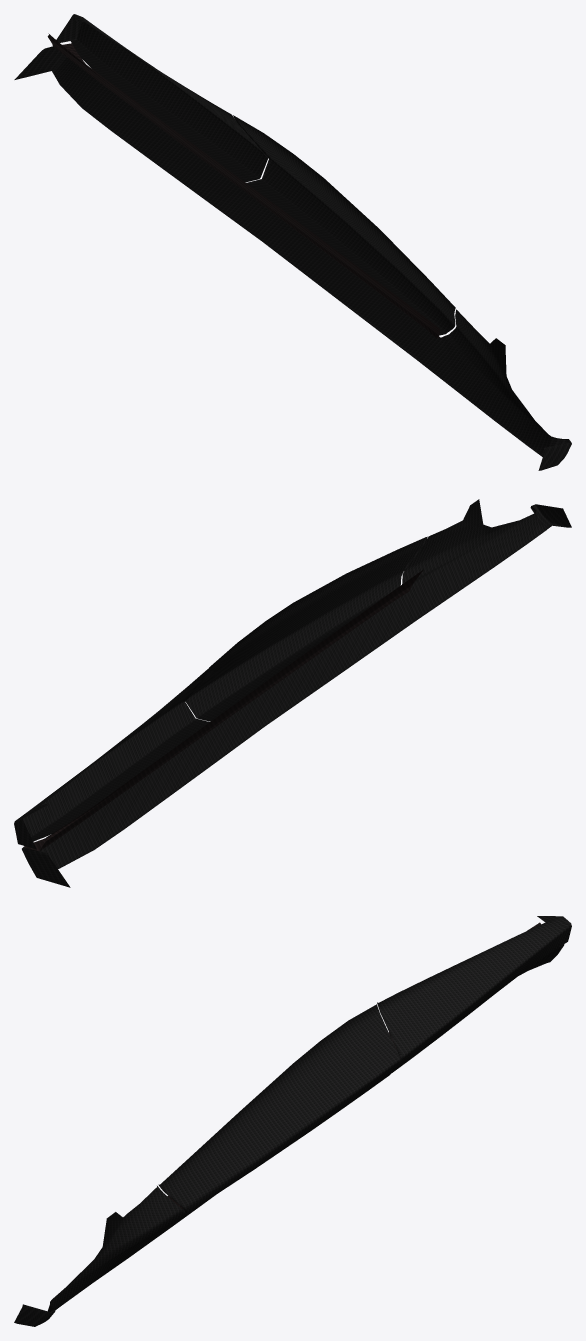
File: sideskirt_l.glb
3 views of the same model, one above another, from view 1: azimuth 30°, elevation 25°; view 2: azimuth 150°, elevation 25°; view 3: azimuth 330°, elevation 25° (orthographic). The views are drawn at different scales.
Visible parts, largest first — view 1: Carbon2_Geo_lodA_Ferrari_PurosangueRewardRecycled_2023Carbon; view 2: Carbon2_Geo_lodA_Ferrari_PurosangueRewardRecycled_2023Carbon; view 3: Carbon2_Geo_lodA_Ferrari_PurosangueRewardRecycled_2023Carbon.
Boxes of the visible parts, <box> form: Carbon2_Geo_lodA_Ferrari_PurosangueRewardRecycled_2023Carbon: <box>14,14,571,470</box>; Carbon2_Geo_lodA_Ferrari_PurosangueRewardRecycled_2023Carbon: <box>14,499,571,887</box>; Carbon2_Geo_lodA_Ferrari_PurosangueRewardRecycled_2023Carbon: <box>14,916,571,1326</box>.
Bounding box in the file's own units: 0.0017 × 0.00232 × 0.022.
1 material, 1 textured.
